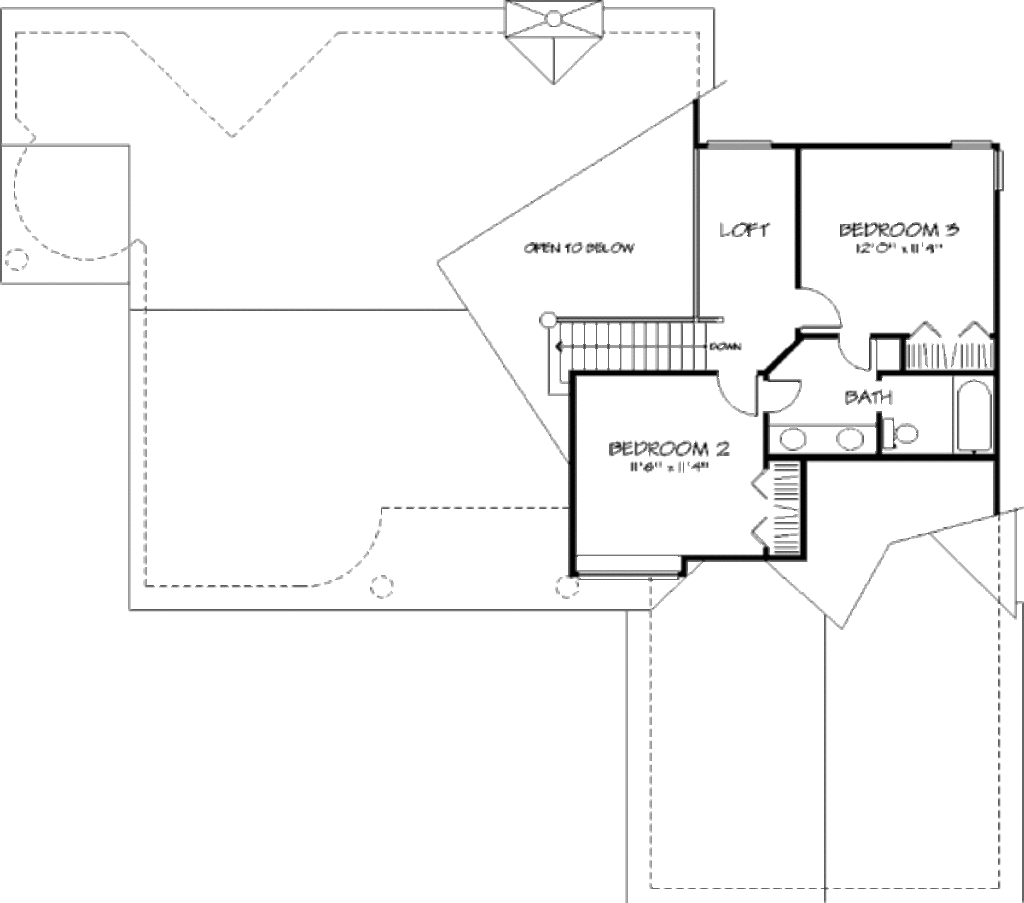door: (790, 283, 847, 332), (714, 366, 758, 423), (751, 377, 804, 420), (836, 327, 871, 379)
large_sink: (877, 406, 925, 457)
small_sink: (763, 421, 878, 453)
stairs: (537, 302, 718, 399)
tub: (947, 372, 997, 457)
window: (940, 132, 1000, 154), (700, 138, 781, 153), (995, 153, 1006, 194)
